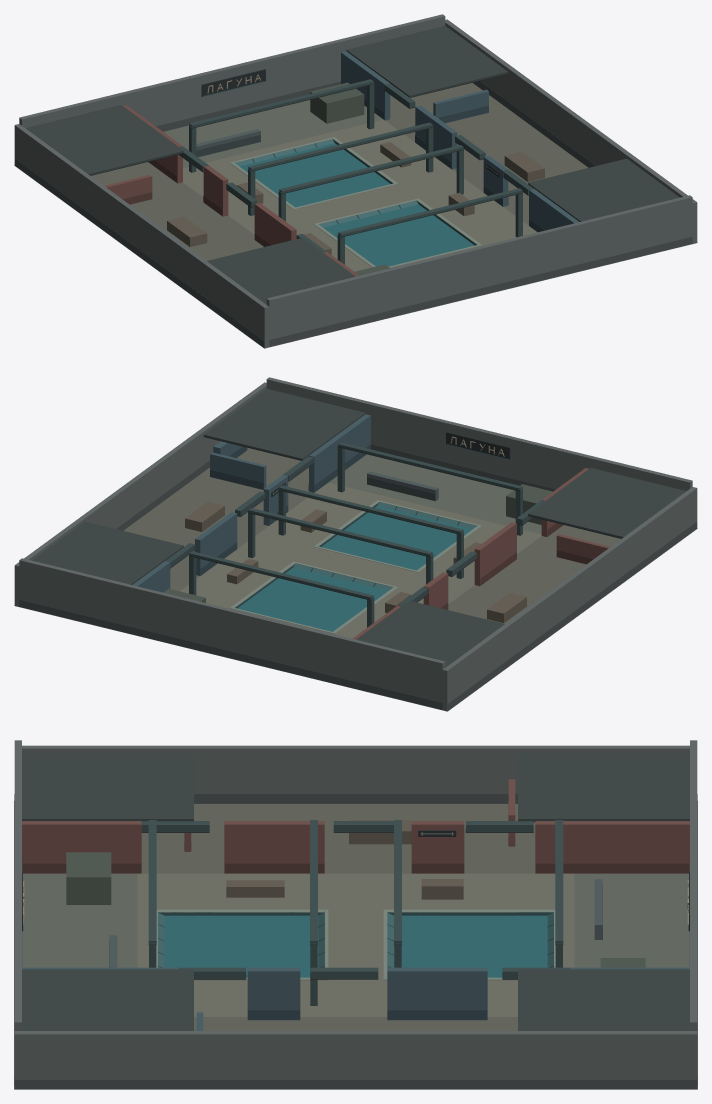
The picture shows the model from 3 angles, top to bottom: view 1: azimuth 30°, elevation 25°; view 2: azimuth 150°, elevation 25°; view 3: azimuth 270°, elevation 25°; orthographic projection. The views are drawn at different scales.
Visible parts, largest first — view 1: concrete-0--1-1, concrete--1-0-1, concrete-0-1-1, concrete-0-0-1, ceramic-0-0-0, ceramic-0--1-0, water-0-0-0, concrete--1--1-1, ceramic--1-0-0, concrete-1-0-1, ceramic-0-1-0, ceramic--1--1-0 (+3 smaller); view 2: concrete-0--1-1, concrete--1-0-1, concrete-0-0-1, ceramic-0-0-0, concrete-0-1-1, water-0-0-0, ceramic-0-1-0, ceramic--1-0-0, concrete-1-0-1, concrete--1--1-1, ceramic-0--1-0, ceramic-1-0-0 (+3 smaller); view 3: concrete--1-0-1, concrete-1-0-1, concrete-0-0-1, ceramic-0-0-0, concrete--1--1-1, ceramic--1-0-0, water-0-0-0, concrete-0--1-1, ceramic-0--1-0, ceramic-0-1-0, ceramic-1-0-0, concrete--1-1-1 (+4 smaller).
Boxes of the visible parts, x1,y1,x2,y2 form: concrete-0--1-1: (19,14,508,157); concrete--1-0-1: (14,124,355,348); concrete-0-1-1: (266,195,692,347); concrete-0-0-1: (230,105,679,275); ceramic-0-0-0: (189,109,588,271); ceramic-0--1-0: (156,81,507,186); water-0-0-0: (239,143,474,266); concrete--1--1-1: (25,105,208,204); ceramic--1-0-0: (14,158,271,347); concrete-1-0-1: (445,19,697,243); ceramic-0-1-0: (269,236,697,346); ceramic--1--1-0: (14,160,188,212); concrete-0--1-1: (19,521,445,710); concrete--1-0-1: (423,468,697,711); concrete-0-0-1: (185,389,552,633); ceramic-0-0-0: (123,444,541,627); concrete-0-1-1: (266,377,692,490); water-0-0-0: (237,506,472,631); ceramic-0-1-0: (237,444,555,534); ceramic--1-0-0: (440,521,697,710); concrete-1-0-1: (14,382,266,606); concrete--1--1-1: (352,587,504,667); ceramic-0--1-0: (14,580,442,709); ceramic-1-0-0: (116,446,263,530); concrete--1-0-1: (22,745,689,873); concrete-1-0-1: (14,1012,697,1089); concrete-0-0-1: (22,820,555,1030); ceramic-0-0-0: (109,873,519,1030); concrete--1--1-1: (466,753,689,873); ceramic--1-0-0: (141,794,519,873); water-0-0-0: (164,915,547,977); concrete-0--1-1: (502,740,697,1030); ceramic-0--1-0: (519,794,697,1089); ceramic-0-1-0: (14,794,137,1089); ceramic-1-0-0: (14,1079,697,1088); concrete--1-1-1: (22,821,141,873).
Size of the model in its own units: 50.44 by 6.54 by 50.44.
